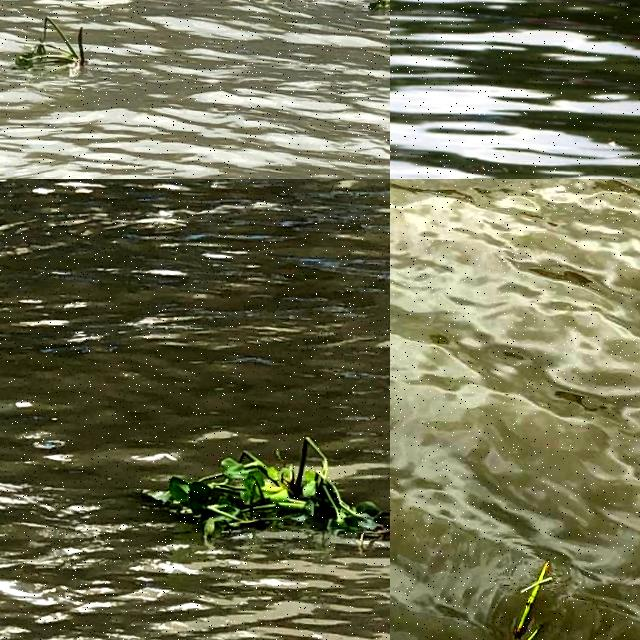water-hyacinth: (139, 423, 391, 555), (10, 15, 98, 75)
